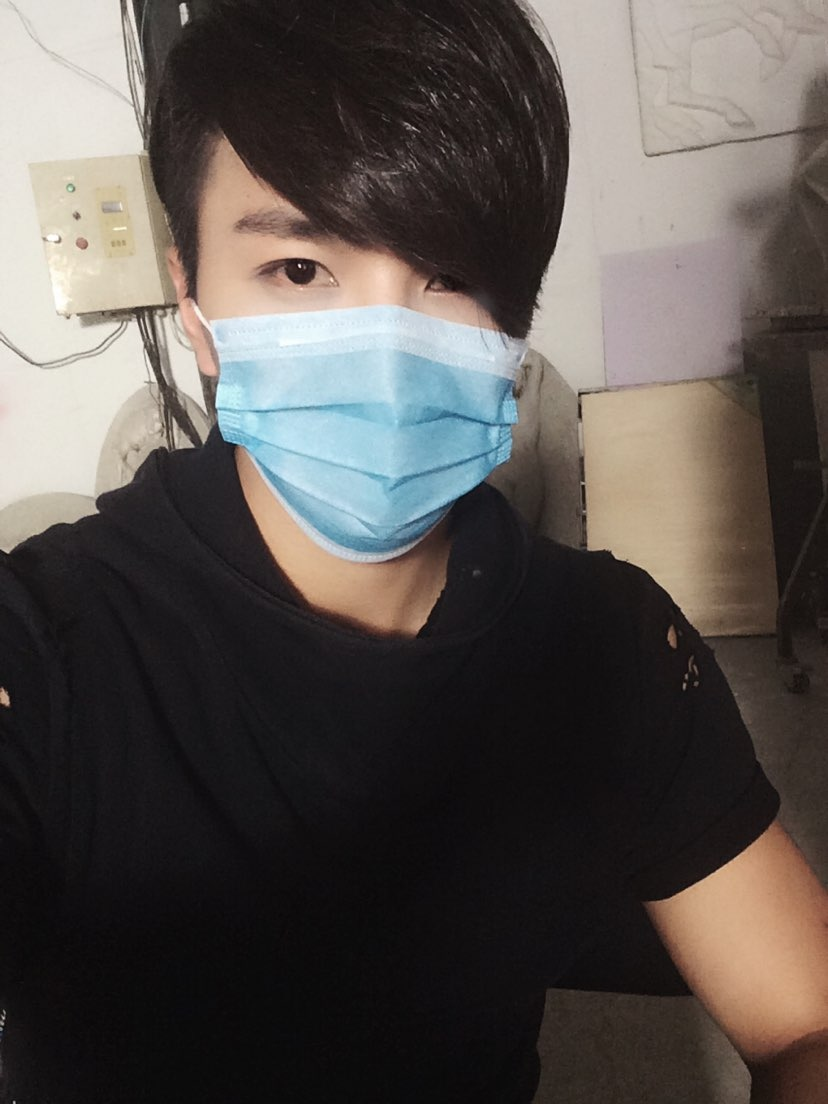face_mask: (210, 74, 499, 559)
